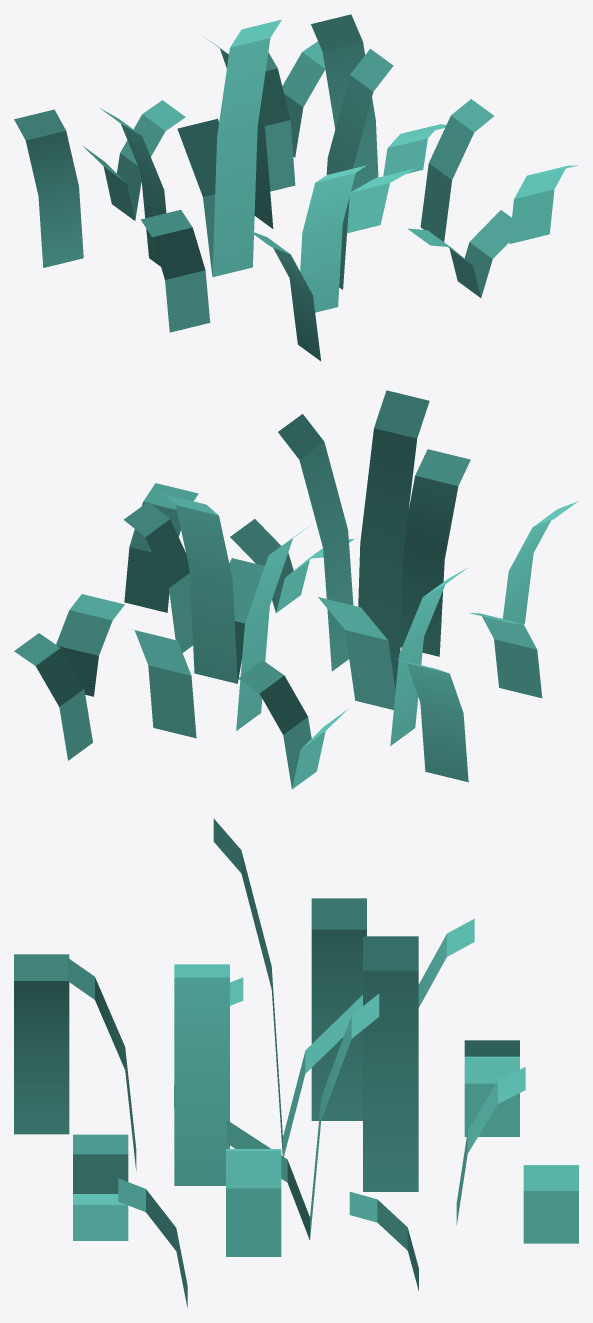
Rendered from grass_dense.obj.
3 renders of one model, top to bottom at view 1: azimuth 30°, elevation 25°; view 2: azimuth 150°, elevation 25°; view 3: azimuth 270°, elevation 25°, orthographic. The views are drawn at different scales.
Parts seen in each view (by area): view 1: grass_dense; view 2: grass_dense; view 3: grass_dense.
Boxes of the visible parts, x1=… form: grass_dense: x1=14, y1=14, x2=577, y2=361; grass_dense: x1=14, y1=390, x2=578, y2=789; grass_dense: x1=14, y1=818, x2=578, y2=1307.
Size of the model in its own units: 4.09 by 2.54 by 4.08.
